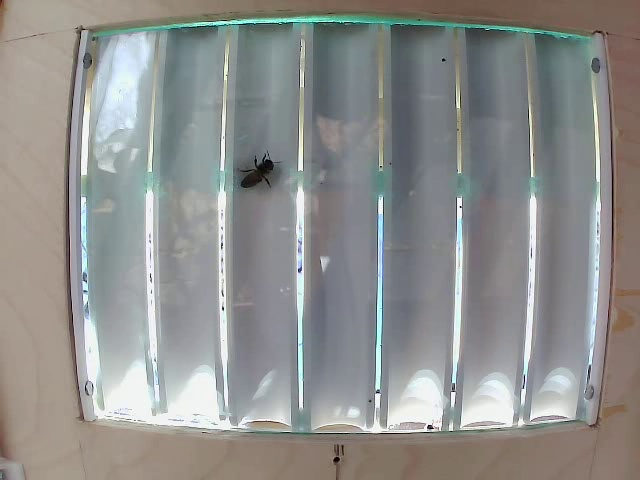bee: (236, 143, 282, 187)
